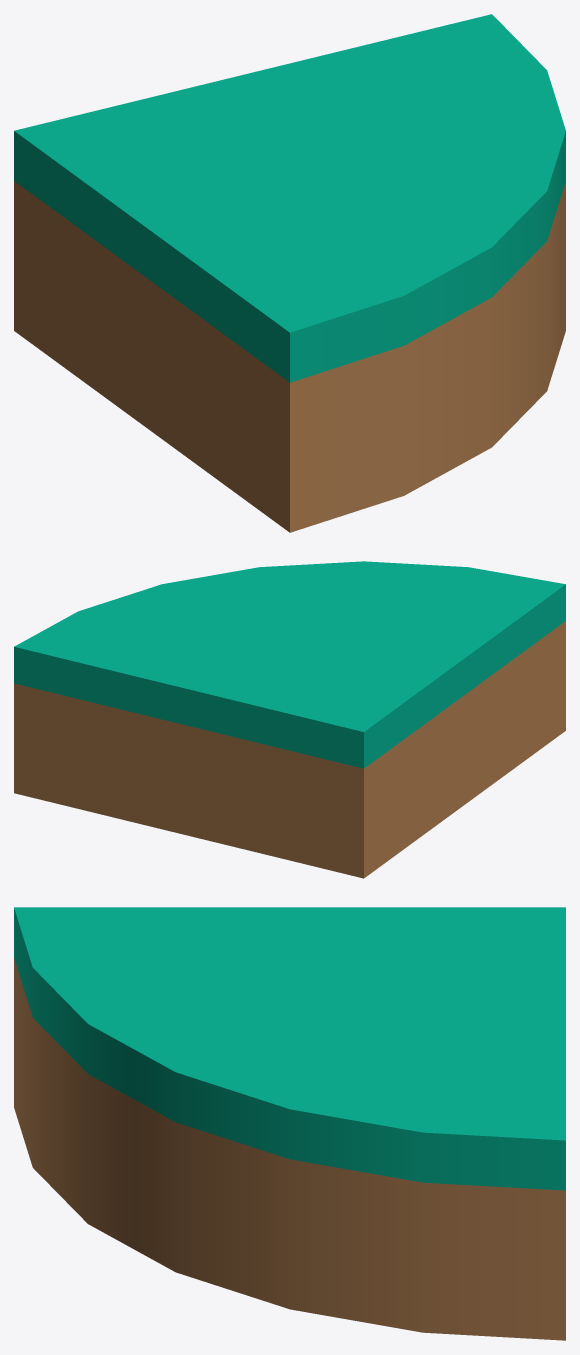
File: platform_corner.fbx
The picture shows the model from 3 angles, top to bottom: view 1: azimuth 30°, elevation 25°; view 2: azimuth 150°, elevation 25°; view 3: azimuth 270°, elevation 25°; orthographic projection. The views are drawn at different scales.
Parts seen in each view (by area): view 1: Boole; view 2: Boole; view 3: Boole.
Part boxes in pixels (bbox=[...]): Boole: bbox=[14, 14, 565, 532]; Boole: bbox=[14, 561, 565, 878]; Boole: bbox=[14, 907, 565, 1340].
Bounding box in the file's own units: 500 × 200 × 500.
